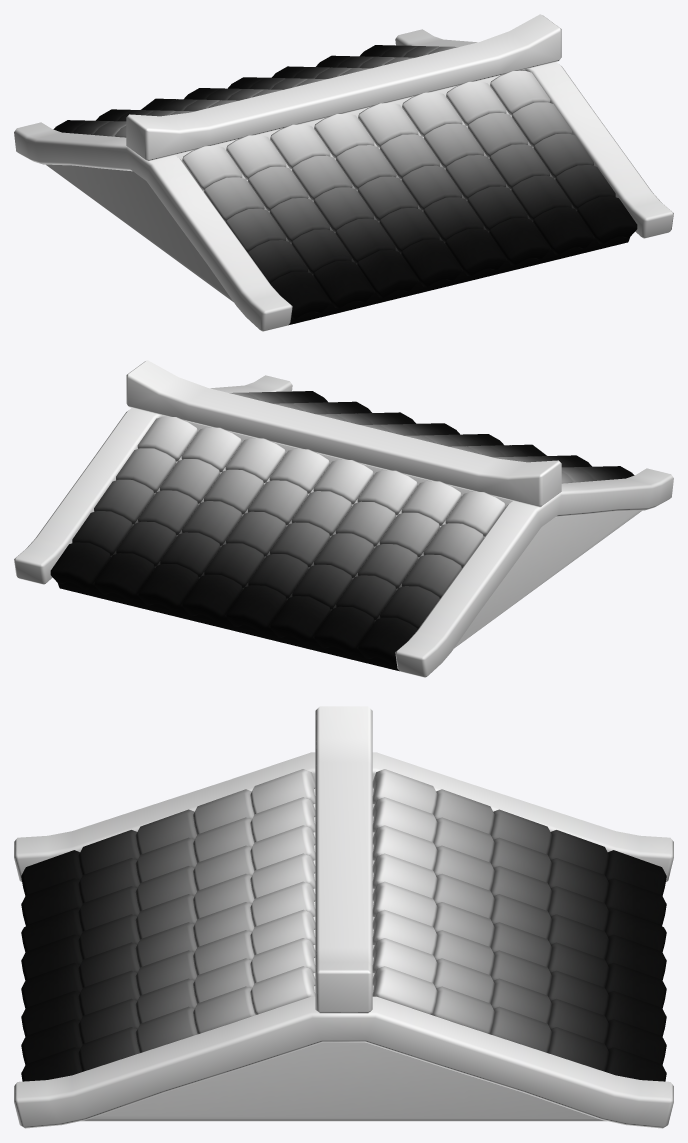
The model's file is SM_Stone_Roof_02.fbx.
3 views of the same model, one above another, from view 1: azimuth 30°, elevation 25°; view 2: azimuth 150°, elevation 25°; view 3: azimuth 270°, elevation 25° (orthographic). The views are drawn at different scales.
Visible parts, largest first — view 1: SM_Stone_Roof_02; view 2: SM_Stone_Roof_02; view 3: SM_Stone_Roof_02.
Part boxes in pixels (<box>): SM_Stone_Roof_02: <box>14,14,673,331</box>; SM_Stone_Roof_02: <box>14,360,673,677</box>; SM_Stone_Roof_02: <box>14,706,673,1128</box>.
Size of the model in its own units: 2.03 by 0.6181 by 2.12.
